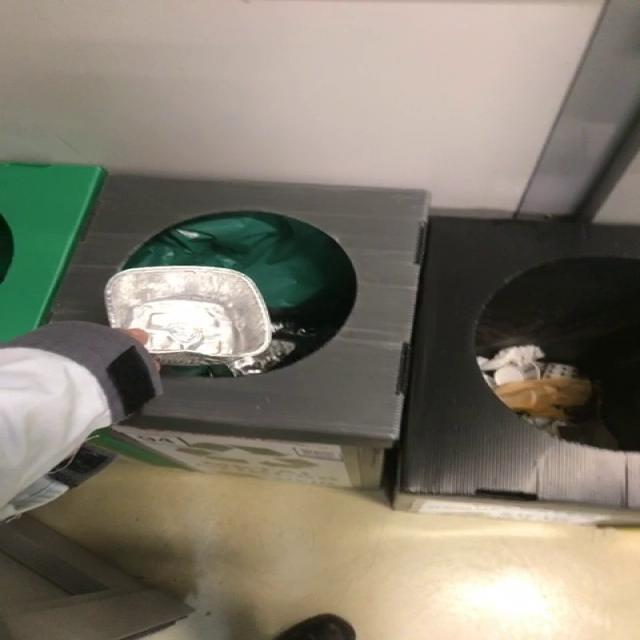bin: (49, 175, 640, 510)
metal: (104, 266, 271, 366)
